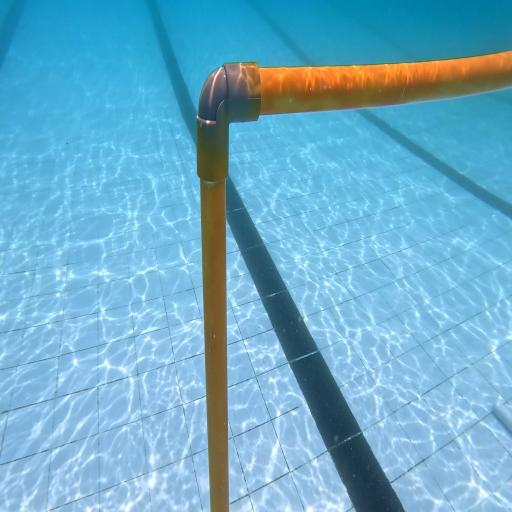gate: (197, 49, 512, 512)
